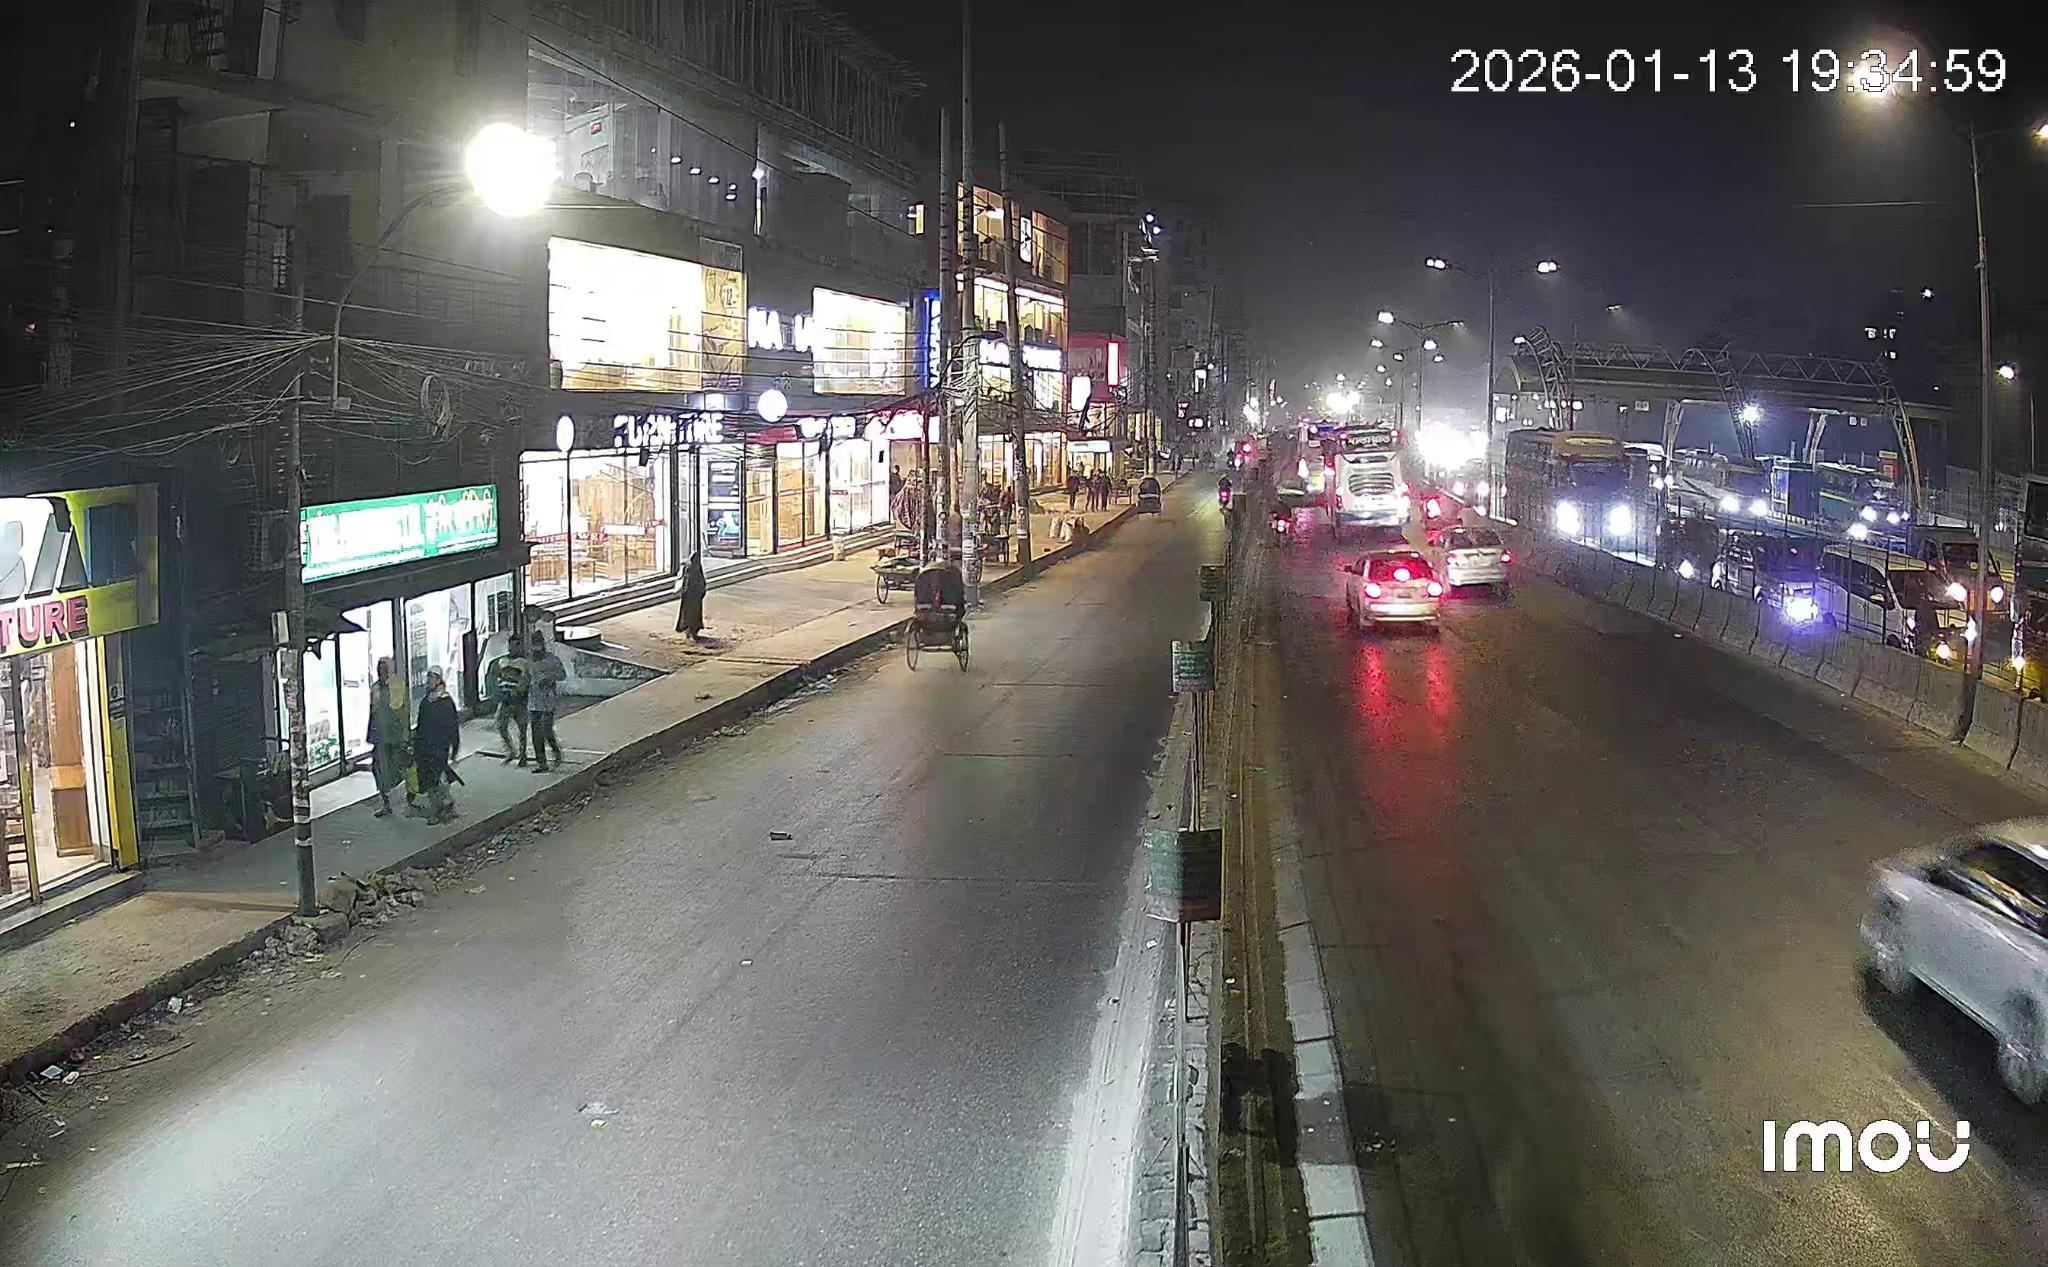Bus: (1501, 429, 1635, 544), (1325, 449, 1412, 540)
Cycle Rickshaw: (906, 554, 971, 669)
Private-Sedan Car: (1858, 816, 2047, 1106), (1340, 546, 1448, 632), (1431, 524, 1511, 595)
